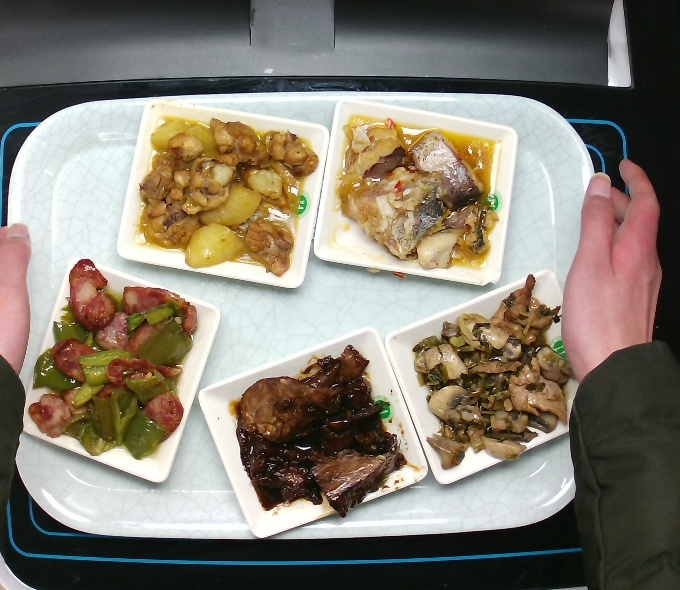wcq-JiangZhiYa: (235, 342, 410, 519)
wcq-MoGuRouPian: (412, 272, 575, 473)
wcq-QingJiaoXiangChang: (24, 258, 199, 459)
wcq-SuanCaiYu: (336, 112, 504, 269)
wcq-TuDouJiKuai: (139, 114, 319, 277)
